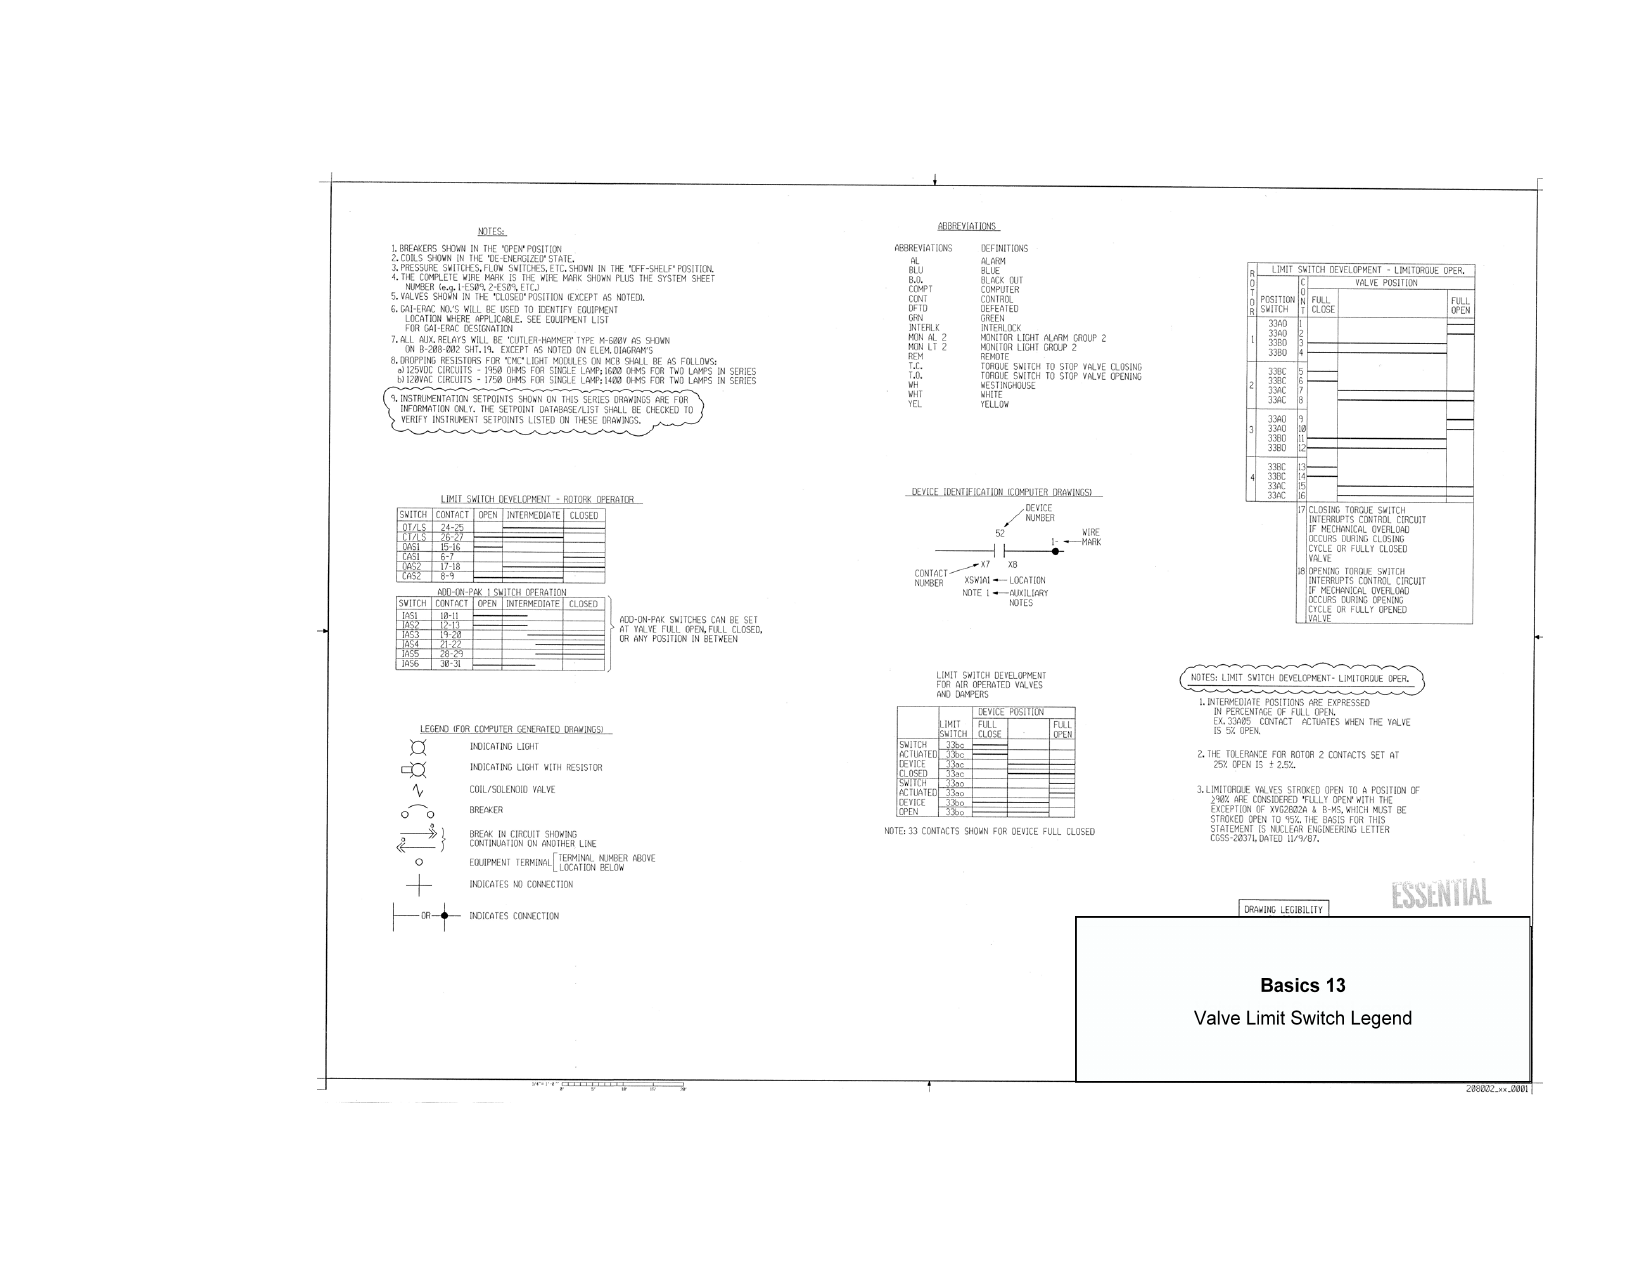circuit_breaker: (385, 798, 442, 822)
